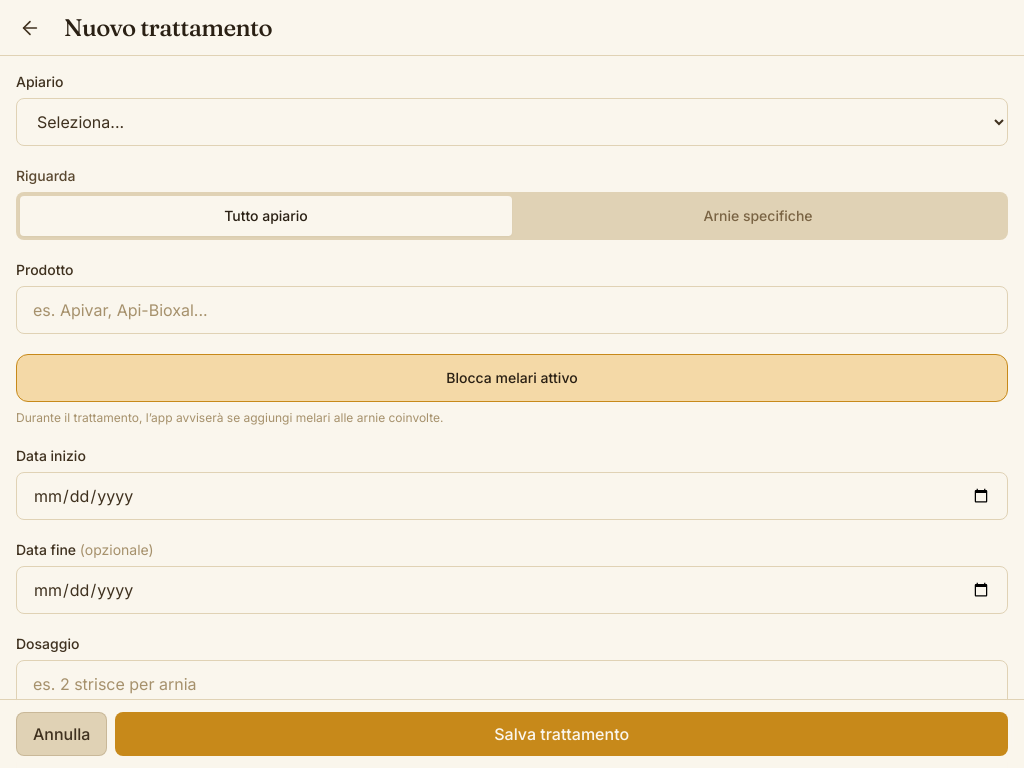
Test: TreatmentForm — unsaved changes › shows unsaved changes sheet when form is dirty
This screenshot has width=1024, height=768.
Type "Apivar" into the field labelled "Prodotto" at [512, 310], box [16,286,1008,334]
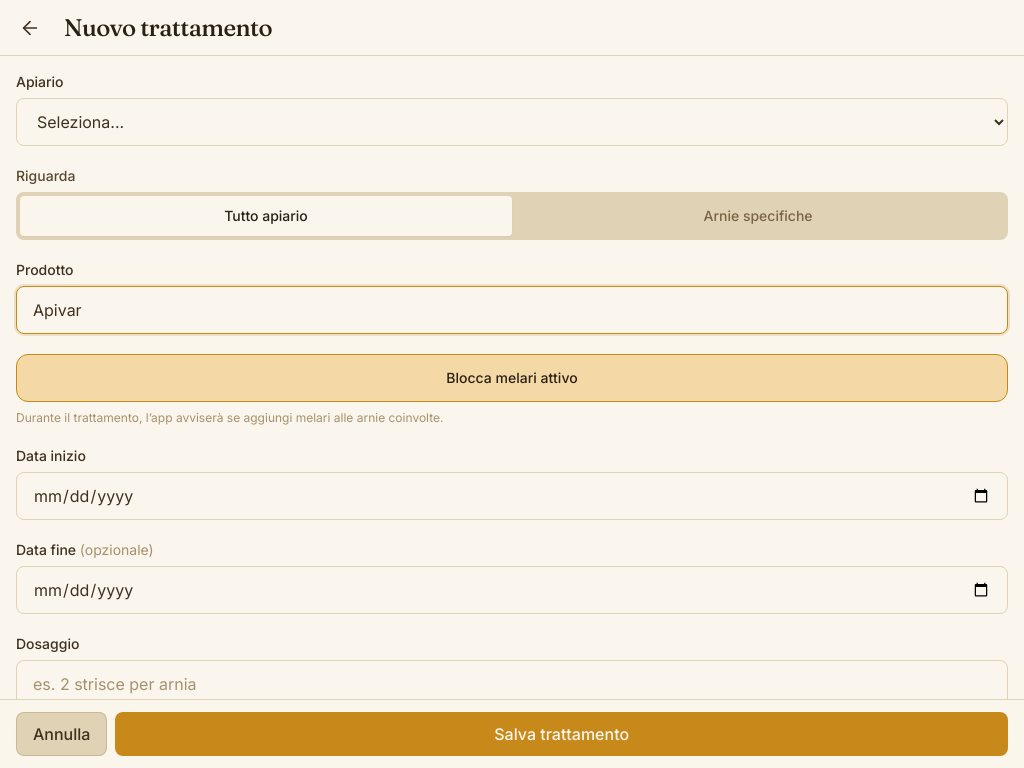
Click the button named "Indietro" at [30, 28], box [8,6,52,50]
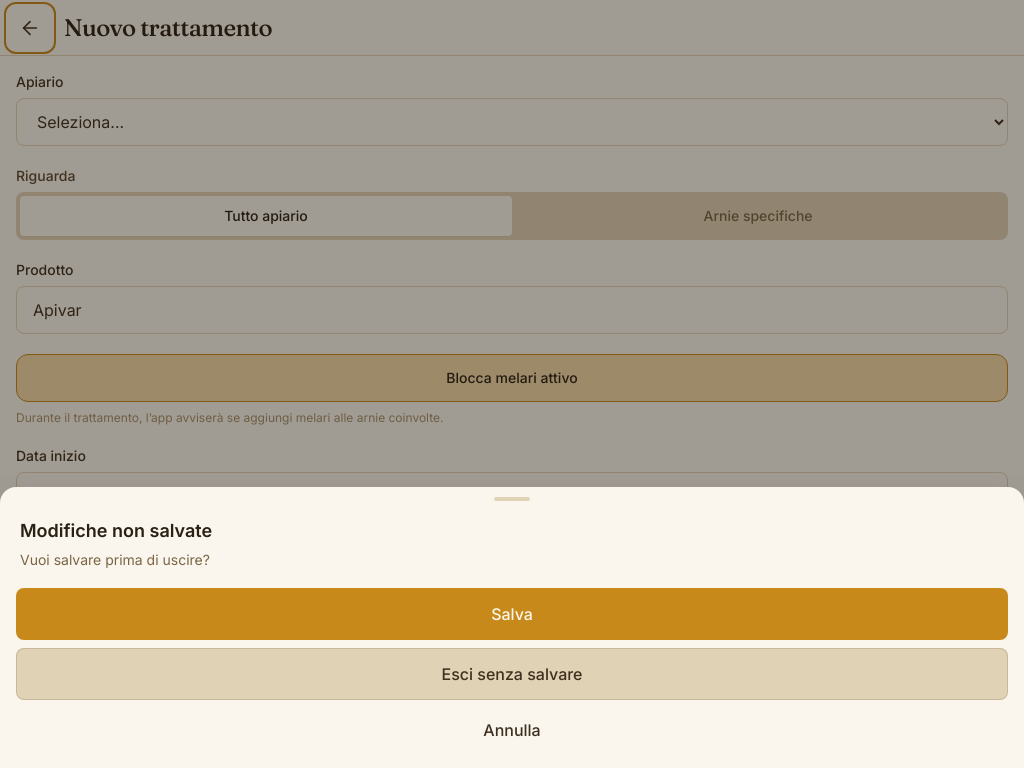
Expected: the heading "Modifiche non salvate" is shown, [20,520,212,541]
